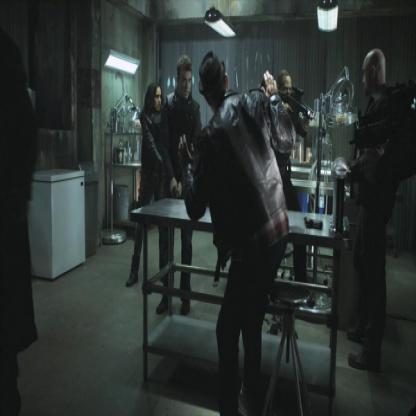Guns: (346, 78, 415, 208), (275, 81, 312, 132)
